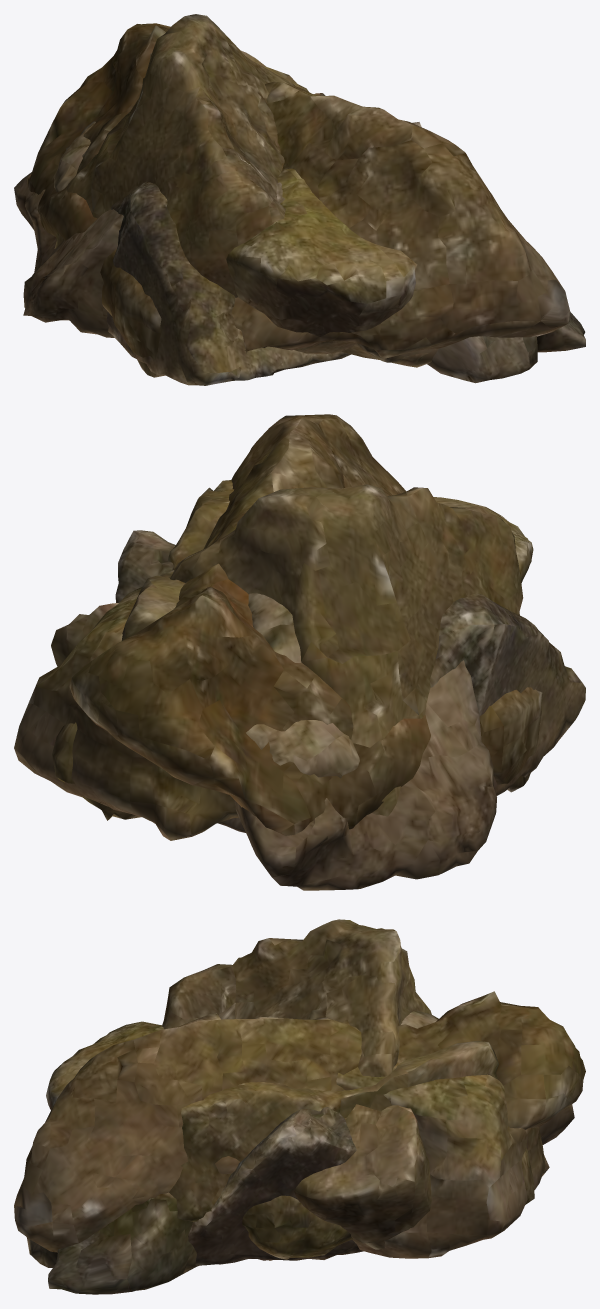
File: rocks_moss.glb
3 views of the same model, one above another, from view 1: azimuth 30°, elevation 25°; view 2: azimuth 150°, elevation 25°; view 3: azimuth 270°, elevation 25° (orthographic). The views are drawn at different scales.
Visible parts, largest first — view 1: rock_1, rock_4, rock_5, rock_3, rock_2, rock_6; view 2: rock_1, rock_4, rock_2, rock_5, rock_3, rock_6; view 3: rock_1, rock_4, rock_5, rock_6, rock_3, rock_2.
Boxes of the visible parts, x1,y1,x2,y2 form: rock_1: (27, 23, 569, 377); rock_4: (54, 14, 325, 297); rock_5: (54, 84, 417, 354); rock_3: (106, 122, 421, 385); rock_2: (14, 172, 585, 383); rock_6: (241, 50, 438, 367); rock_1: (69, 414, 542, 835); rock_4: (51, 484, 523, 816); rock_2: (234, 593, 496, 890); rock_5: (14, 497, 533, 840); rock_3: (115, 530, 585, 832); rock_6: (52, 480, 233, 820); rock_1: (14, 991, 585, 1260); rock_4: (162, 919, 431, 1249); rock_5: (46, 1021, 549, 1258); rock_6: (169, 1041, 534, 1259); rock_3: (188, 1107, 363, 1265); rock_2: (26, 1010, 574, 1294).
Size of the model in its own units: 2.63 by 1.73 by 3.35.
1 material, 1 textured.
